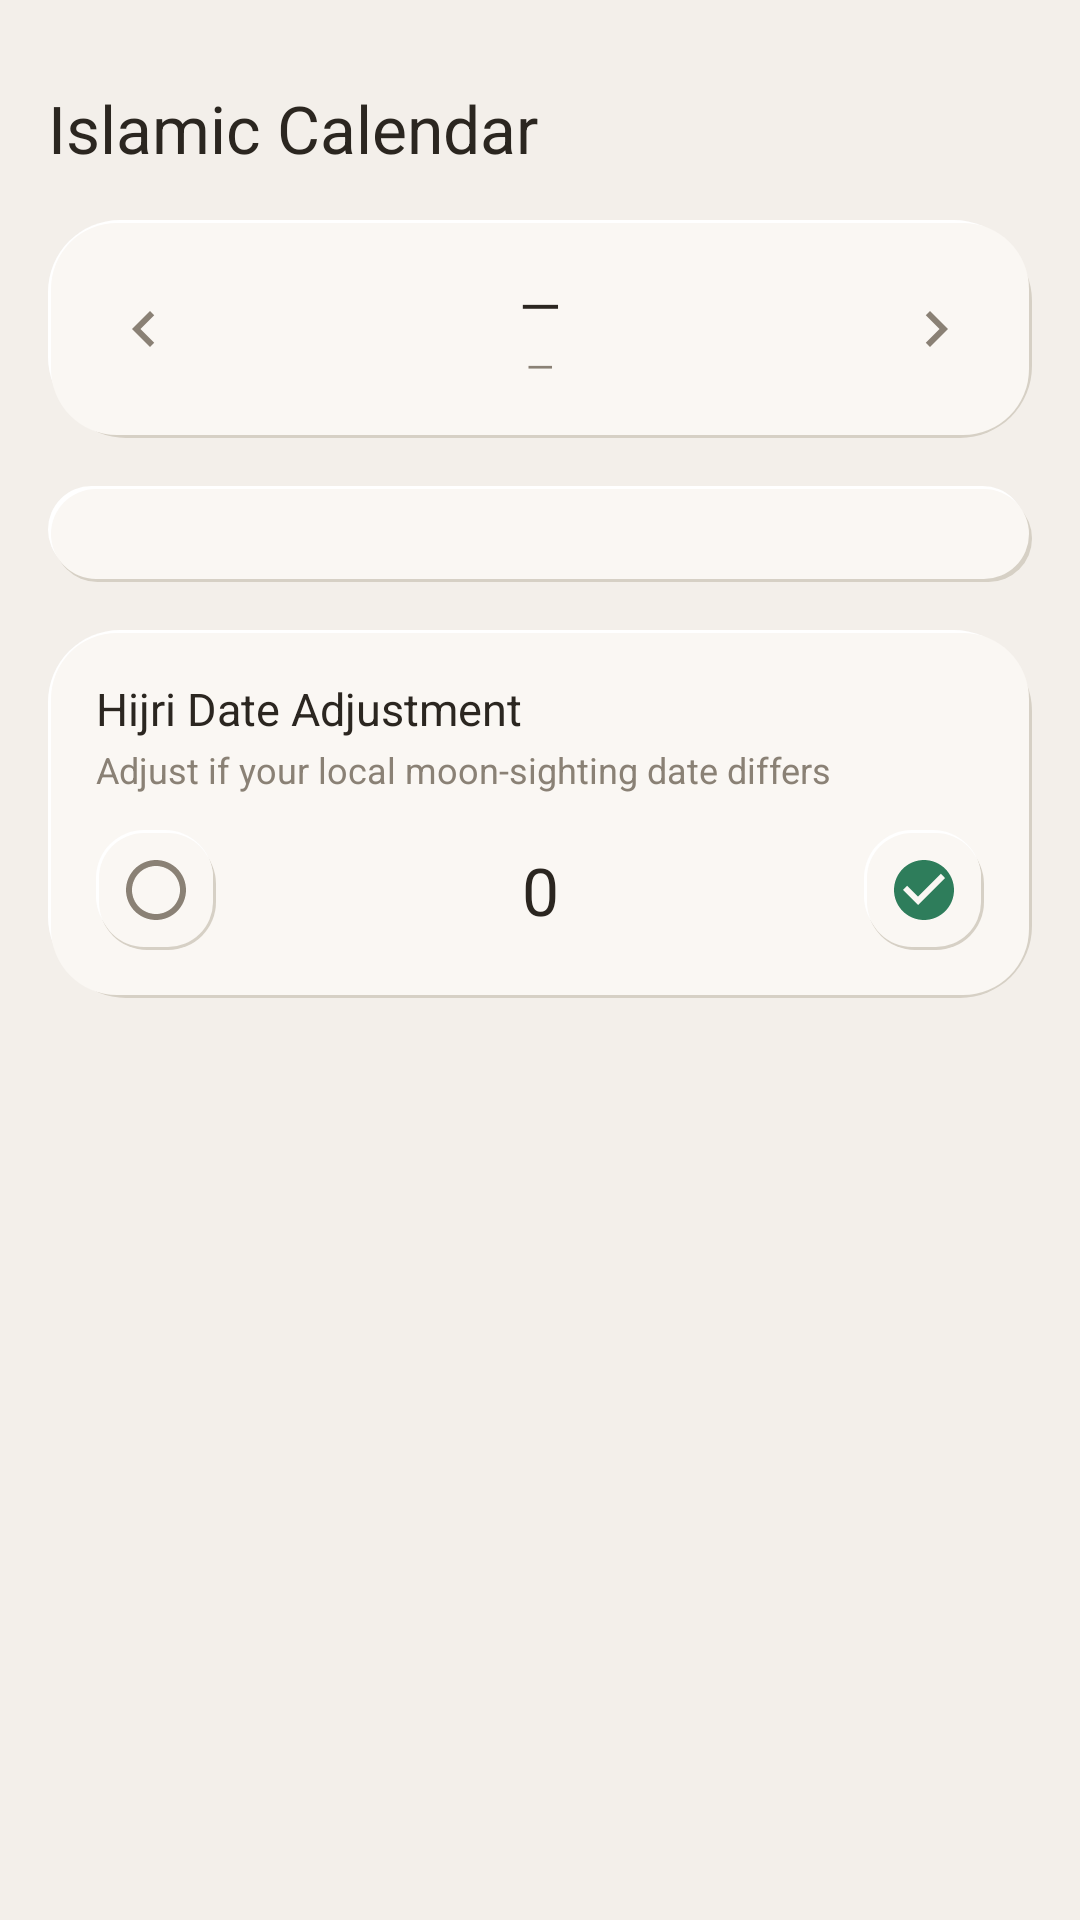

Icon bounding boxes for this 1080×1920 phone screenshot, format {"left": x1, "top": y1, "right": x2, "bottom": y2}:
check circle: {"left": 875, "top": 860, "right": 984, "bottom": 950}
circle: {"left": 107, "top": 860, "right": 216, "bottom": 950}
